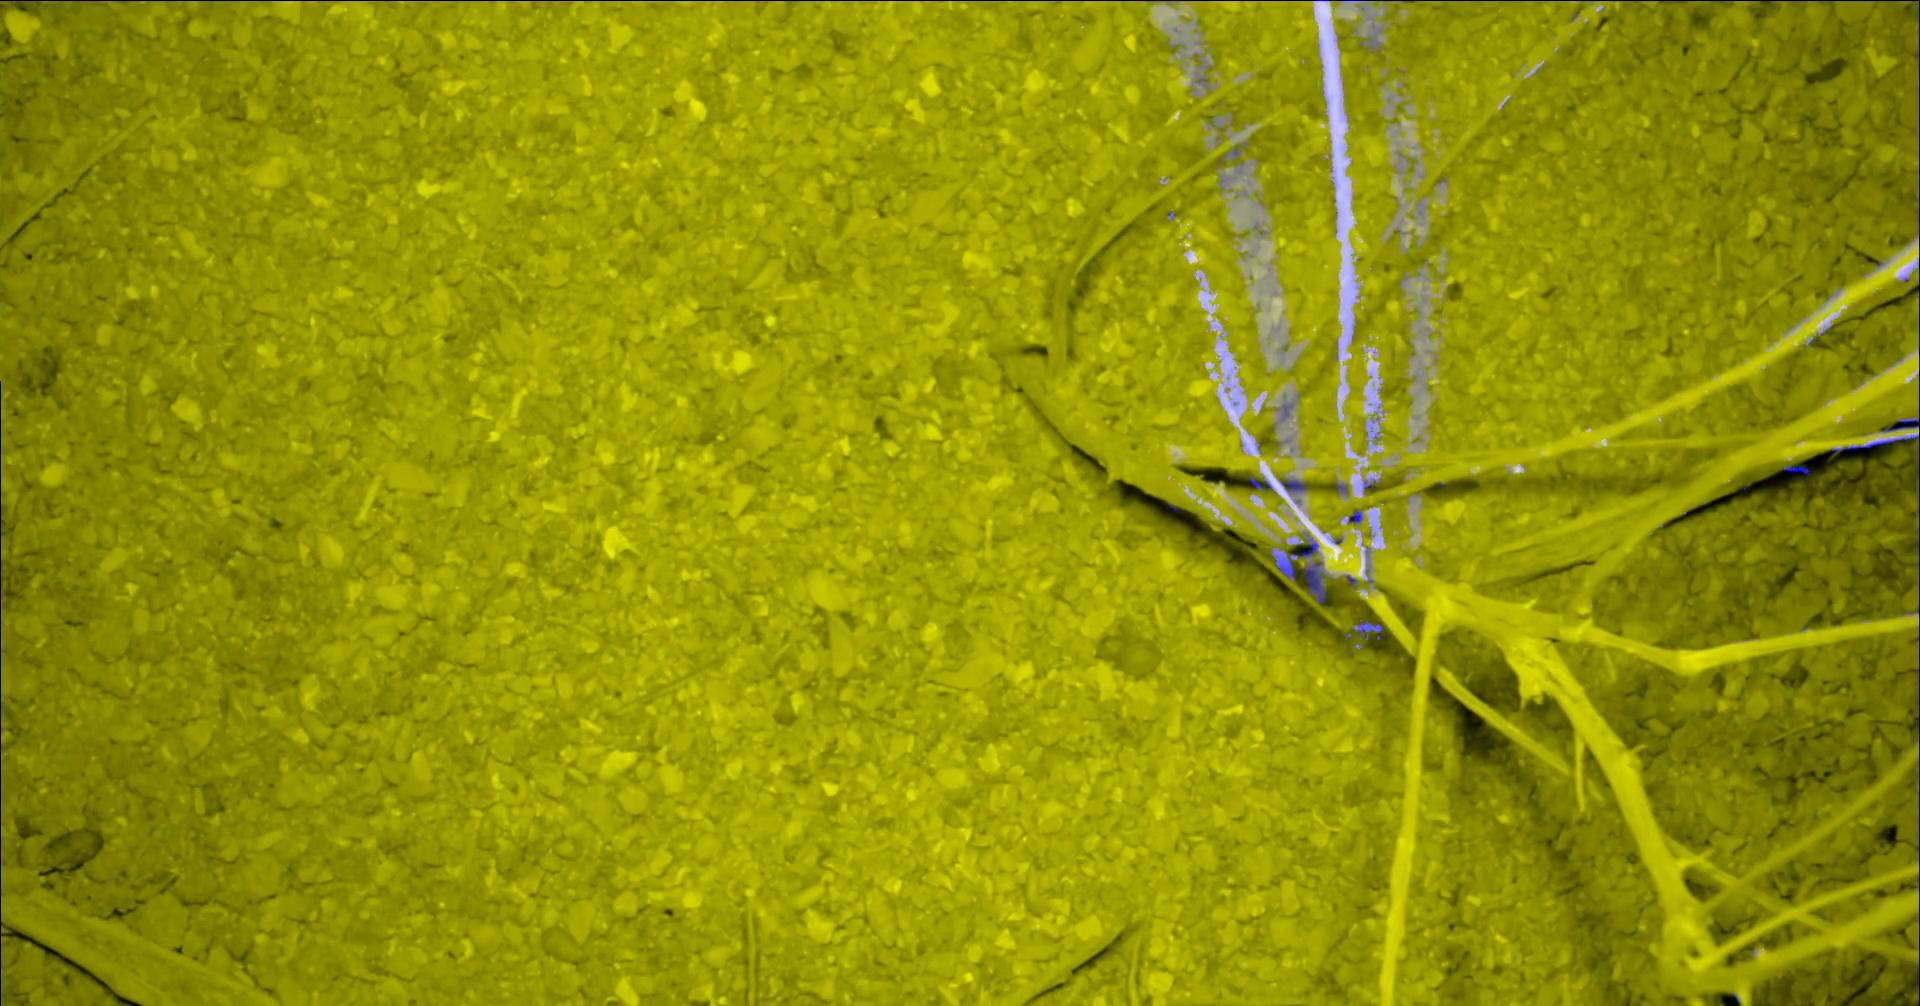ant: (1830, 433, 1919, 464), (1274, 541, 1317, 580), (1303, 561, 1326, 603), (1356, 619, 1382, 639), (1881, 418, 1919, 431), (1247, 476, 1272, 490), (1280, 479, 1305, 492), (1783, 464, 1810, 474), (1349, 509, 1361, 522)
